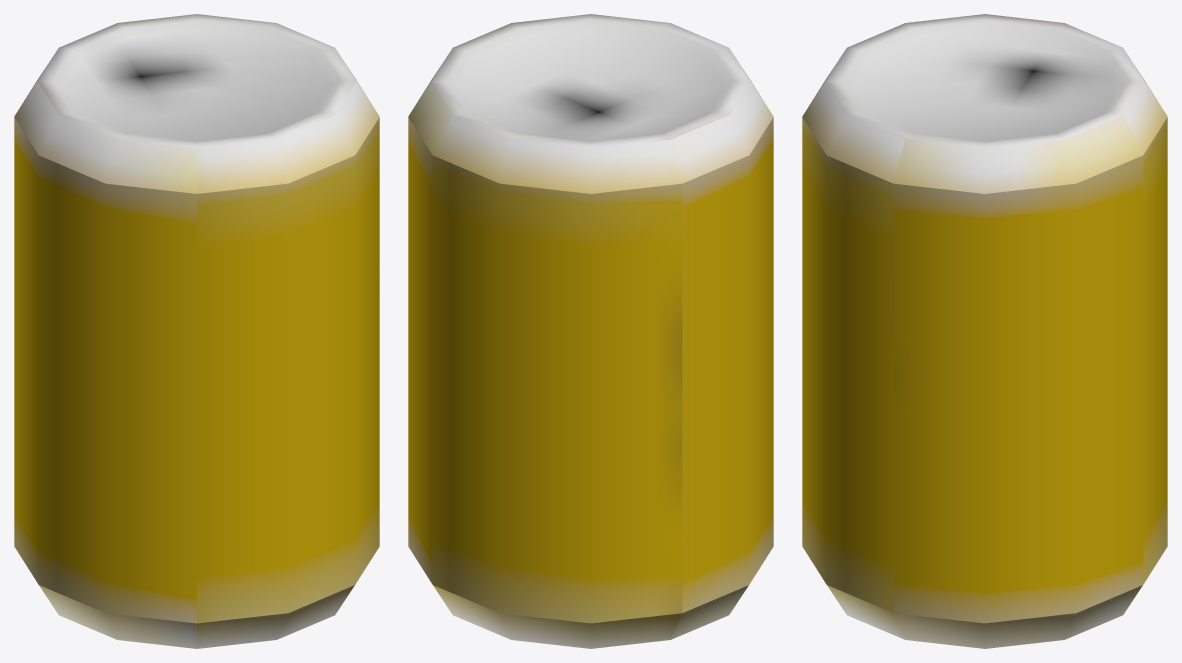
File: Can4.fbx
The picture shows the model from 3 angles, left to right: view 1: azimuth 30°, elevation 25°; view 2: azimuth 150°, elevation 25°; view 3: azimuth 270°, elevation 25°; orthographic projection.
Visible parts, largest first — view 1: Can4; view 2: Can4; view 3: Can4.
Boxes of the visible parts, left/top/right/bottom form: Can4: left=14, top=14, right=379, bottom=648; Can4: left=408, top=14, right=773, bottom=648; Can4: left=802, top=14, right=1167, bottom=648.
Size of the model in its own units: 5.72 by 8.63 by 5.72.
